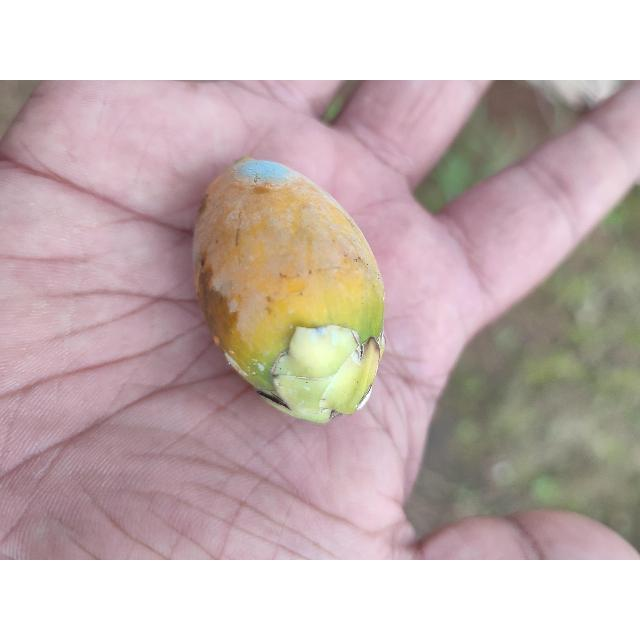good: (191, 158, 386, 425)
